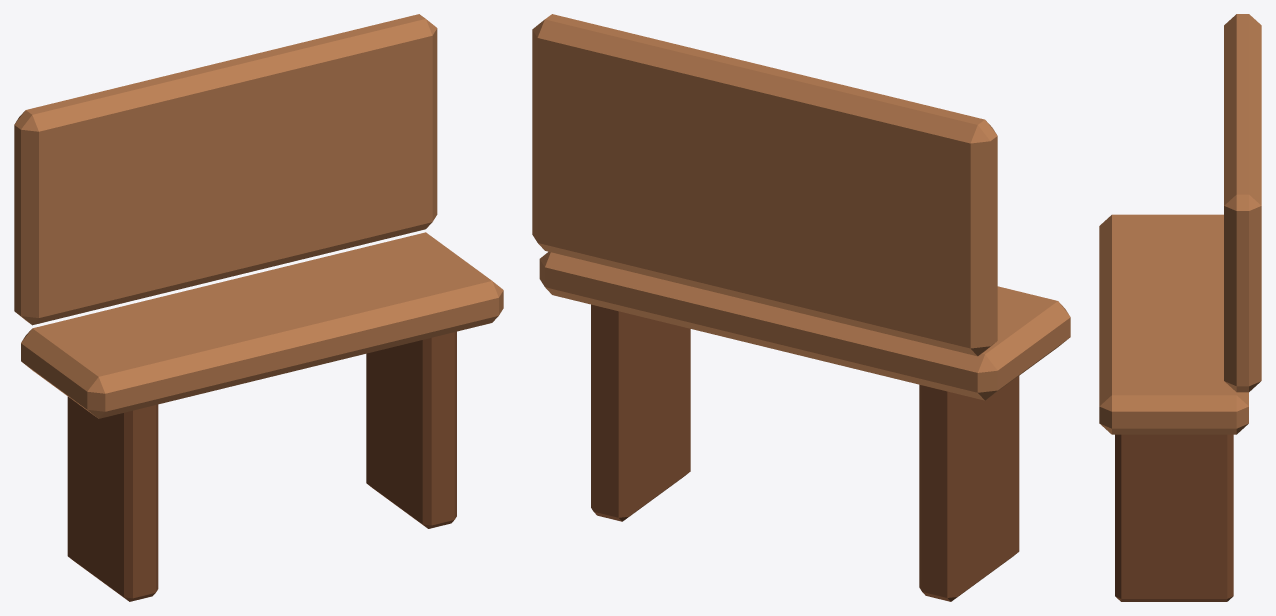
File: bench.glb
3 renders of one model, left to right at view 1: azimuth 30°, elevation 25°; view 2: azimuth 150°, elevation 25°; view 3: azimuth 270°, elevation 25°, orthographic. The views are drawn at different scales.
Visible parts, largest first — view 1: back, seat, leg, leg.001; view 2: back, seat, leg, leg.001; view 3: seat, leg.001, back.
Boxes of the visible parts, x1,y1,x2,y2 form: back: [14, 14, 437, 325]; seat: [21, 232, 503, 418]; leg: [67, 396, 158, 601]; leg.001: [366, 331, 456, 528]; back: [532, 14, 997, 356]; seat: [539, 251, 1070, 400]; leg: [919, 376, 1019, 601]; leg.001: [591, 304, 690, 521]; seat: [1099, 214, 1248, 434]; leg.001: [1115, 434, 1233, 601]; back: [1224, 14, 1261, 392].
Bounding box in the file's own units: 1.45 × 1.5 × 0.52.
